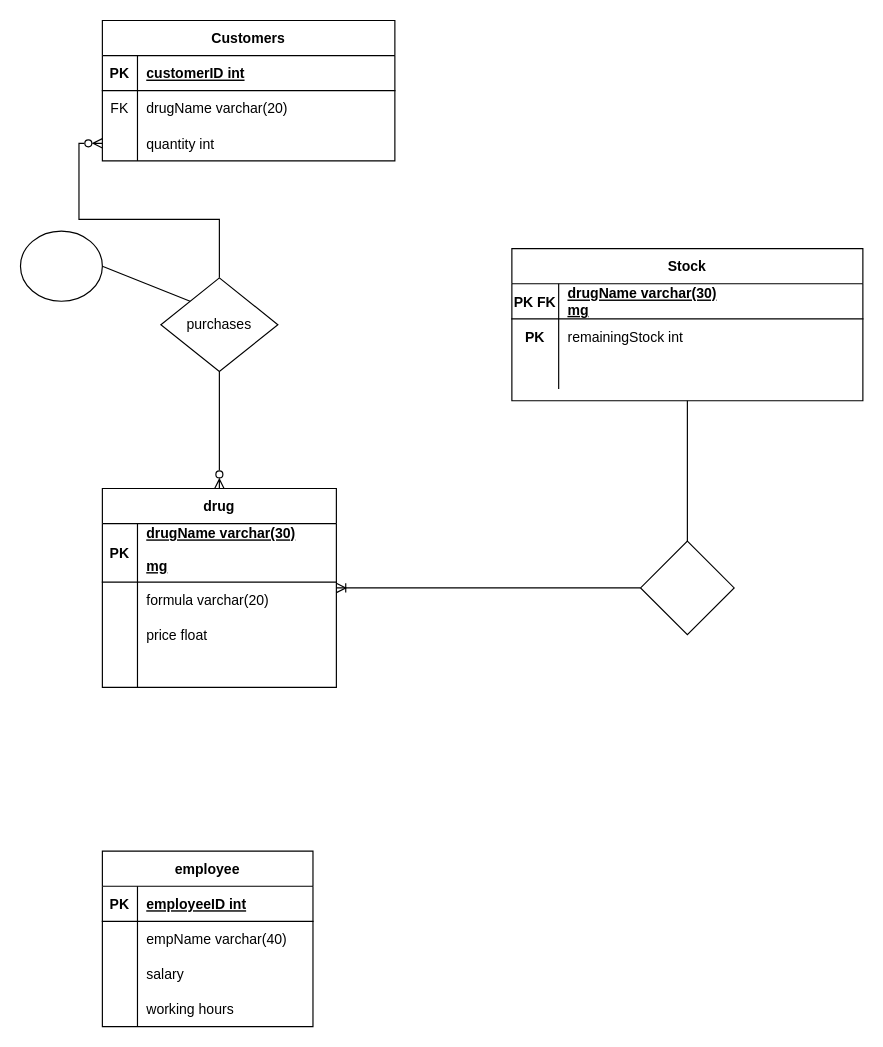
The diagram is 883 pixels wide and 1047 high, and some of its shapes have lost their labels. Here are the shapes that lost their labels. From the top down, the box of each, then its label:
(19, 230, 102, 301): purchase date
(639, 540, 734, 635): have
